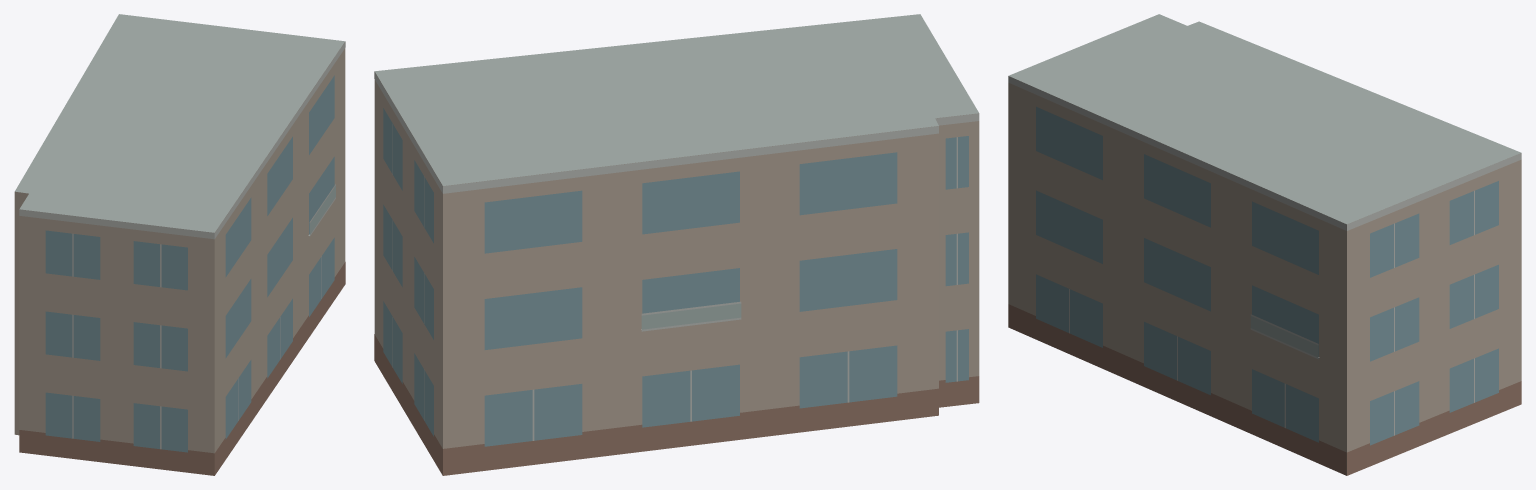
File: survey-upis-32920277.glb
3 renders of one model, left to right at view 1: azimuth 30°, elevation 25°; view 2: azimuth 150°, elevation 25°; view 3: azimuth 270°, elevation 25°, orthographic. The views are drawn at different scales.
Parts seen in each view (by area): view 1: survey-upis-32920277.tmp; view 2: survey-upis-32920277.tmp; view 3: survey-upis-32920277.tmp.
Boxes of the visible parts, x1=… form: survey-upis-32920277.tmp: x1=14, y1=14, x2=345, y2=475; survey-upis-32920277.tmp: x1=374, y1=14, x2=979, y2=475; survey-upis-32920277.tmp: x1=1008, y1=14, x2=1521, y2=475.
Size of the model in its own units: 16.42 by 9.15 by 16.93.
